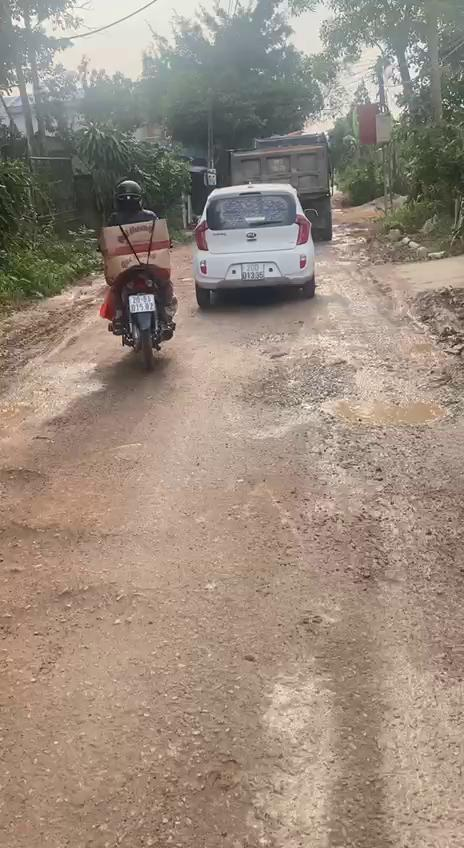pothole: (263, 366, 464, 436), (0, 579, 150, 668), (0, 519, 137, 570), (0, 468, 71, 507)
